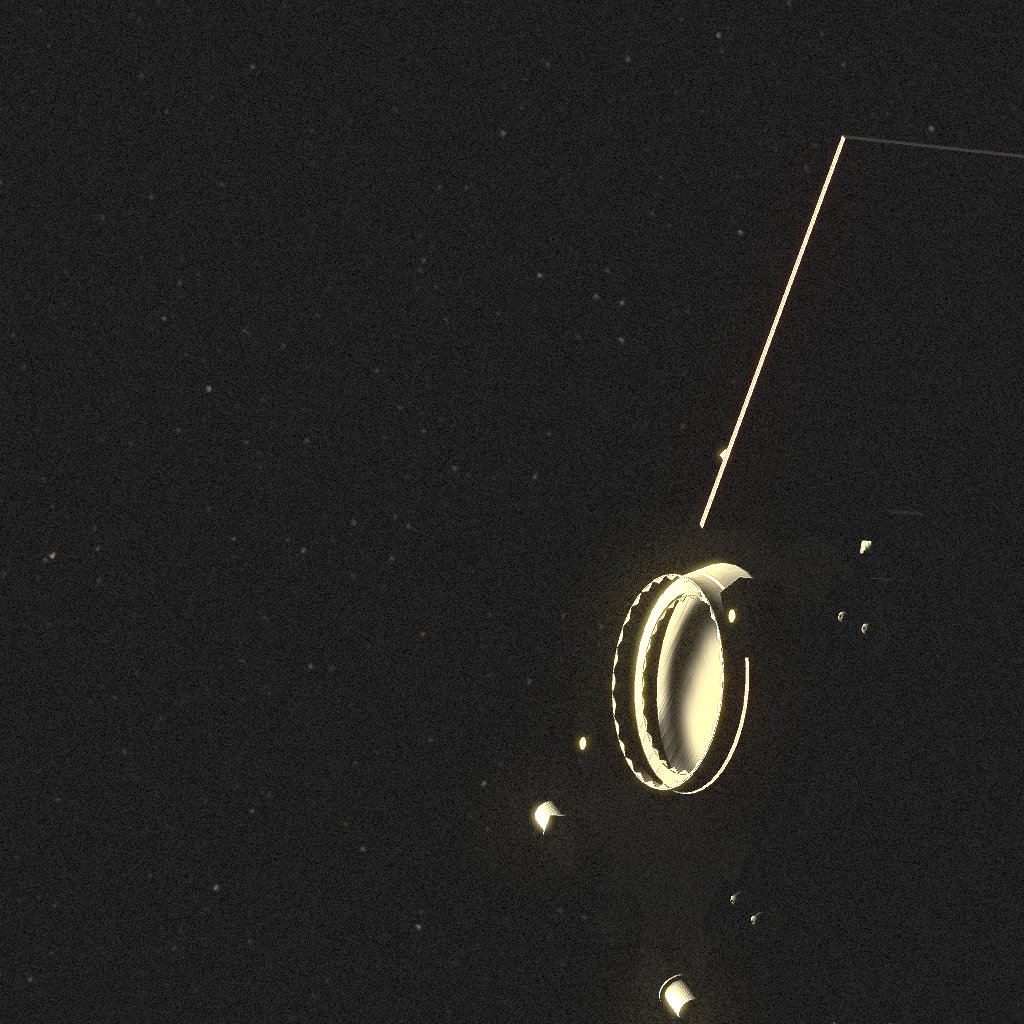proba_3_csc: (535, 135, 1024, 1024)
